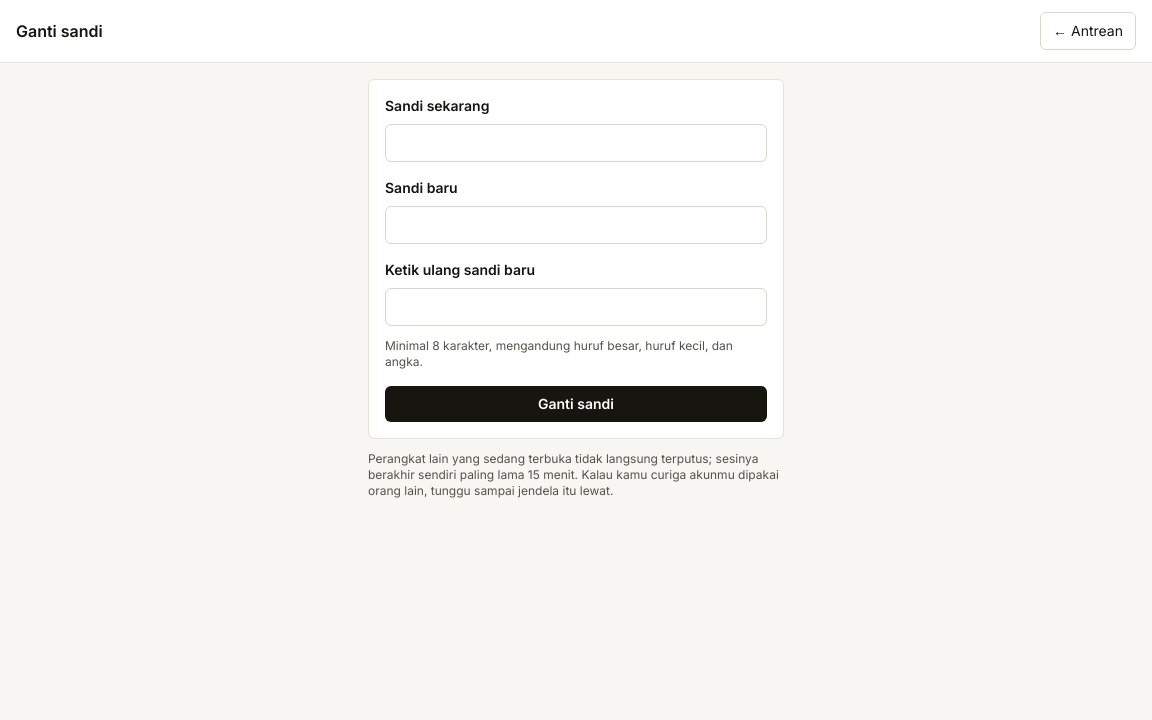
Scenario: ganti sandi › ketikan ulang yang beda ditolak tanpa menghubungi server
Type "Lama12345" into the password field labelled "Sandi sekarang". click: {"x": 576, "y": 143}
box: [385, 124, 767, 162]
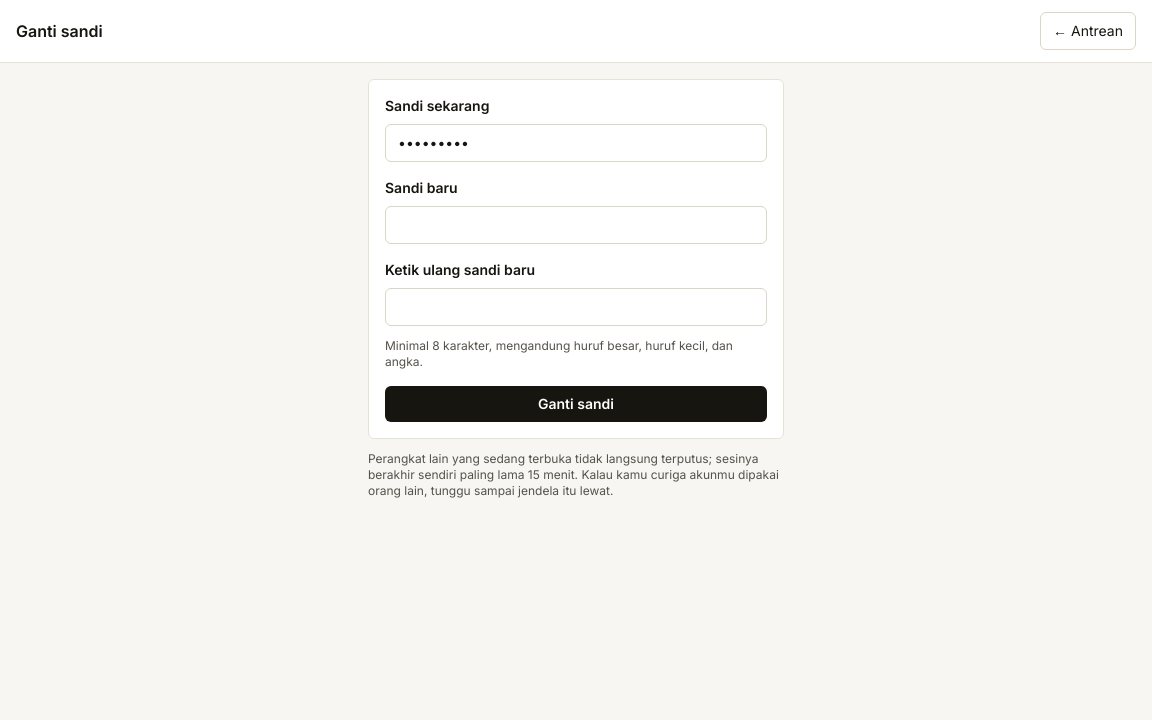
Type "Baru67890" into the password field labelled "Sandi baru". click: {"x": 576, "y": 225}
box: [385, 206, 767, 244]
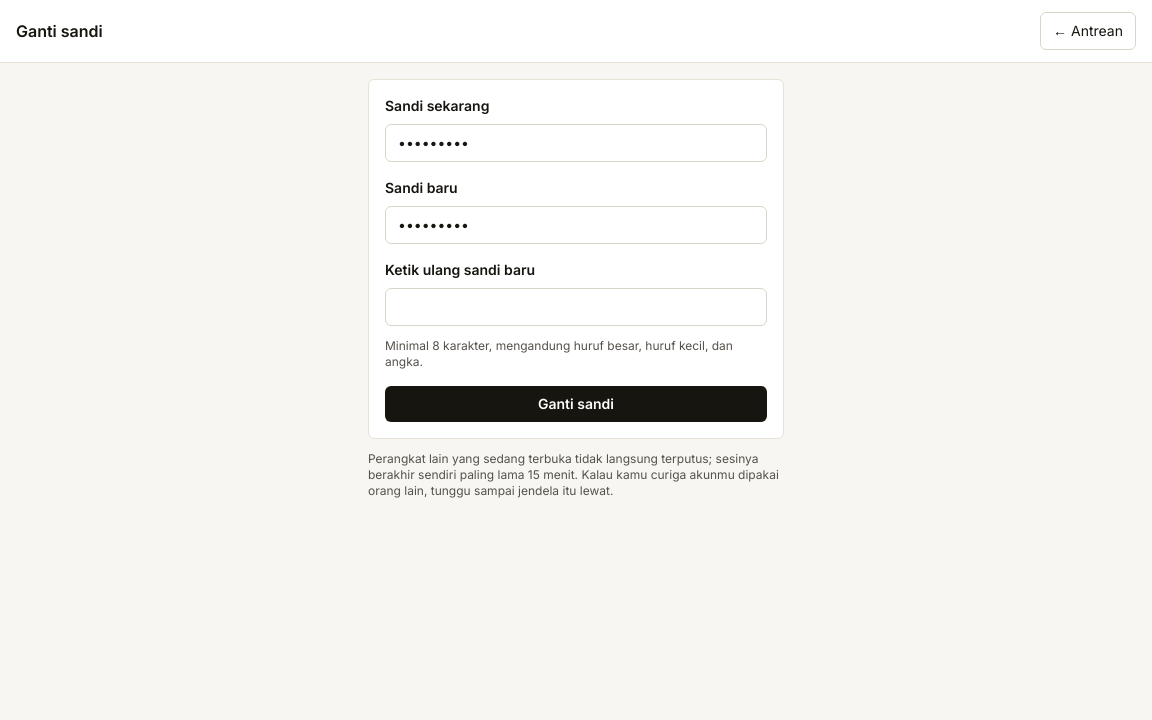
Type "Baru99999" into the password field labelled "Ketik ulang sandi baru". click: {"x": 576, "y": 307}
box: [385, 288, 767, 326]
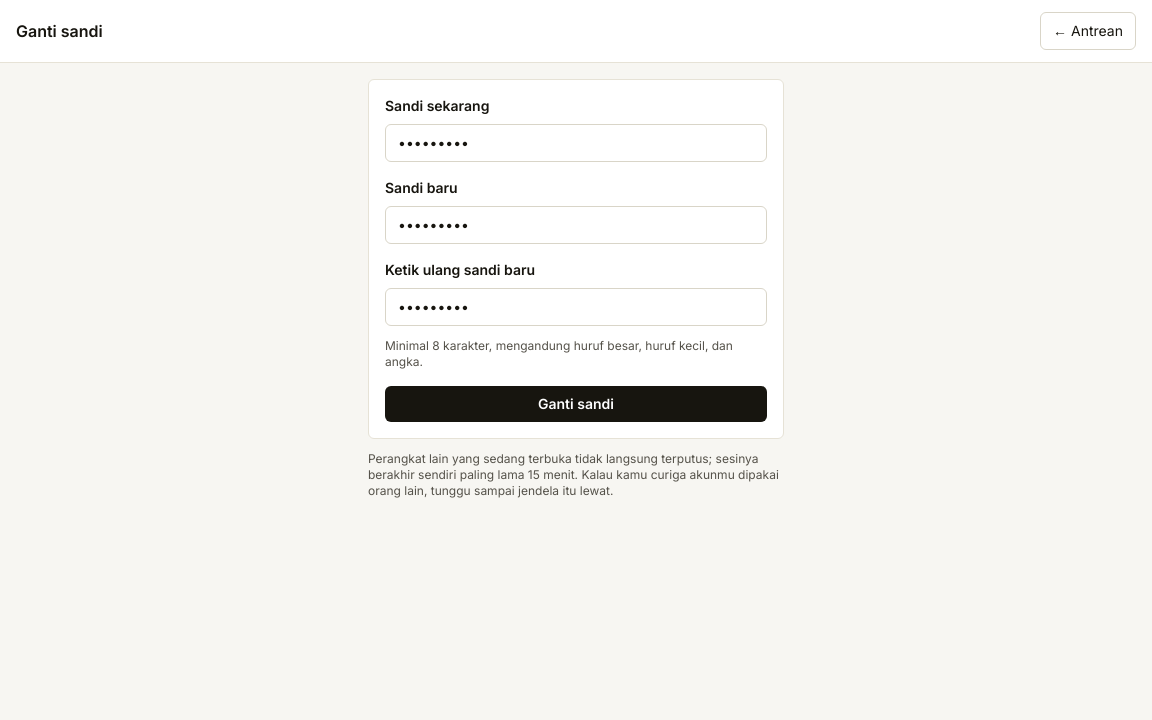
Click the button "Ganti sandi". click: {"x": 576, "y": 404}
box: [385, 386, 767, 422]
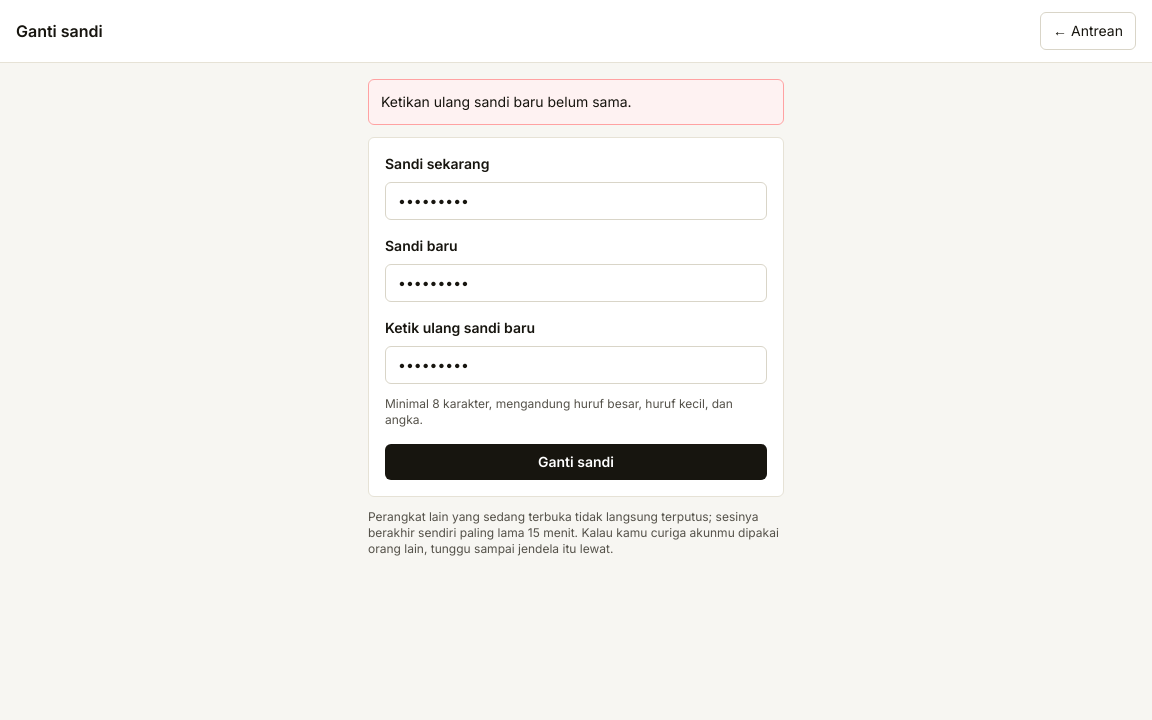
Expected: the message "Ketikan ulang sandi baru belum sama." is shown, [368, 79, 784, 125]
